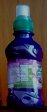blueberries: (6, 4, 44, 106)
